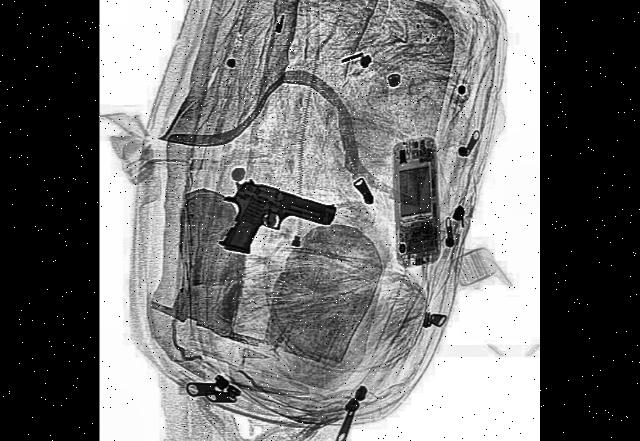Gun: (220, 170, 338, 282)
